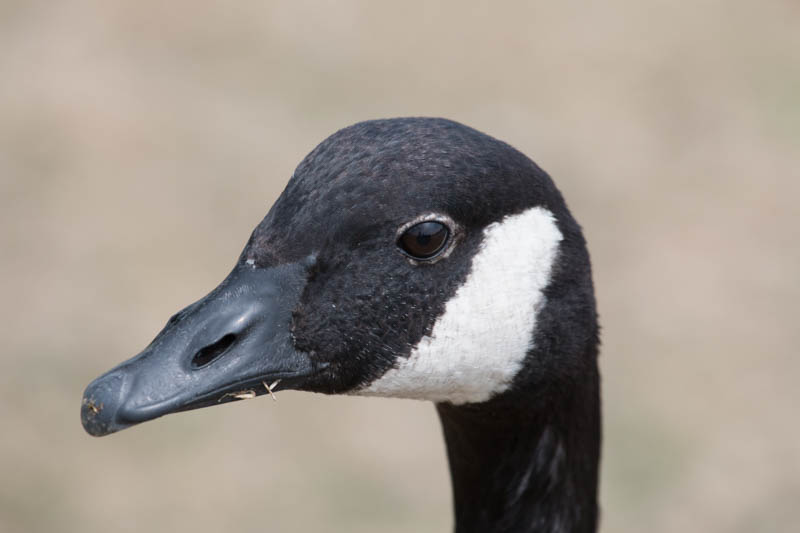goose-head: (81, 117, 598, 436)
